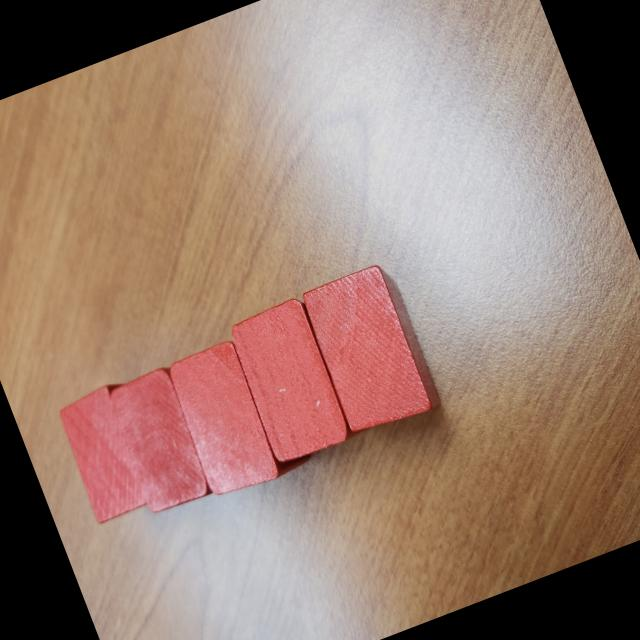red: (296, 259, 444, 443), (224, 296, 356, 468), (162, 338, 288, 505), (51, 378, 166, 528), (103, 365, 217, 516)
